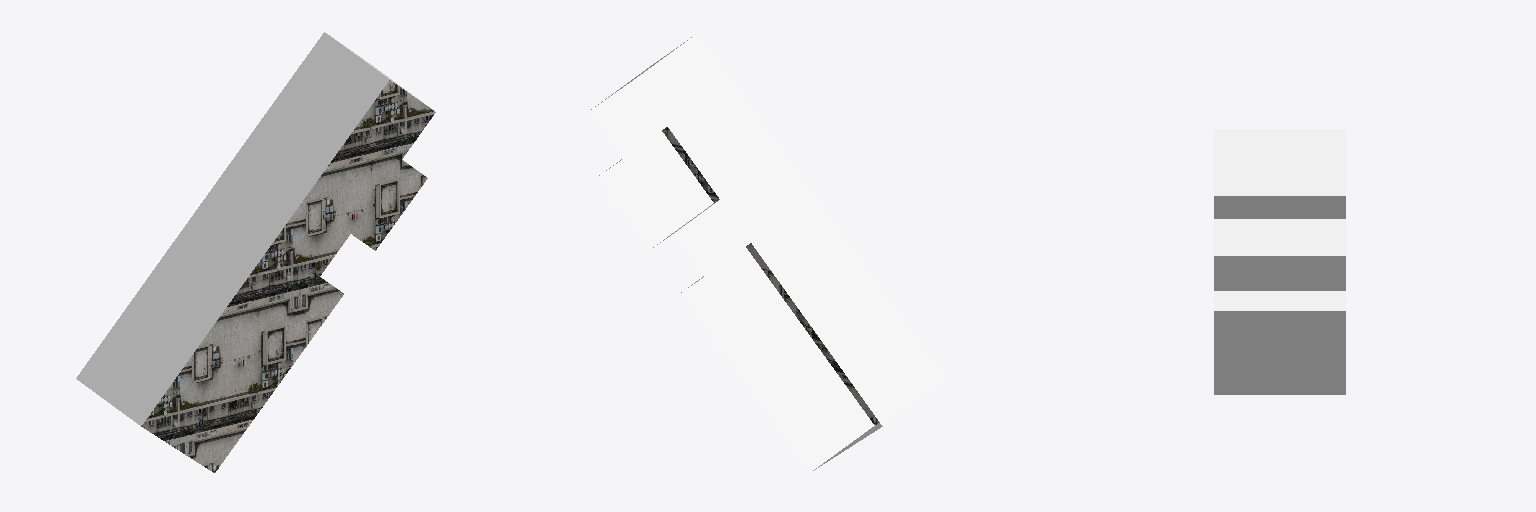
3 views of the same model, side by side, from view 1: azimuth 30°, elevation 25°; view 2: azimuth 150°, elevation 25°; view 3: azimuth 270°, elevation 25° (orthographic).
Parts seen in each view (by area): view 1: Building; view 2: Building; view 3: Building.
Boxes of the visible parts, x1=… form: Building: x1=76, y1=32, x2=435, y2=472; Building: x1=588, y1=32, x2=947, y2=472; Building: x1=1214, y1=130, x2=1345, y2=394.
Size of the model in its own units: 15.58 by 17.73 by 6.
Materials: 2 (1 with a texture image).